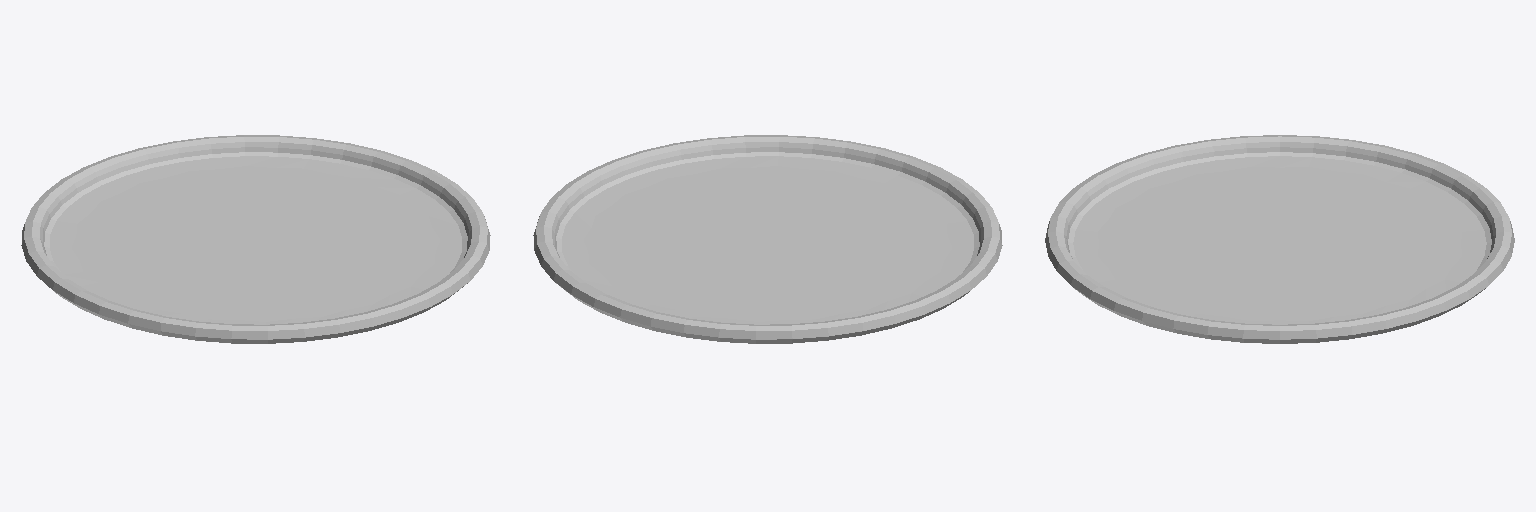
The model's file is Plato.obj.
3 renders of one model, left to right at view 1: azimuth 30°, elevation 25°; view 2: azimuth 150°, elevation 25°; view 3: azimuth 270°, elevation 25°, orthographic.
Visible parts, largest first — view 1: Plato_high_poly; view 2: Plato_high_poly; view 3: Plato_high_poly.
Part boxes in pixels (x1,y1,x2,y2): Plato_high_poly: (21,135,490,343); Plato_high_poly: (533,135,1002,343); Plato_high_poly: (1045,135,1514,343).
Bounding box in the file's own units: 14.18 × 1.65 × 14.18.